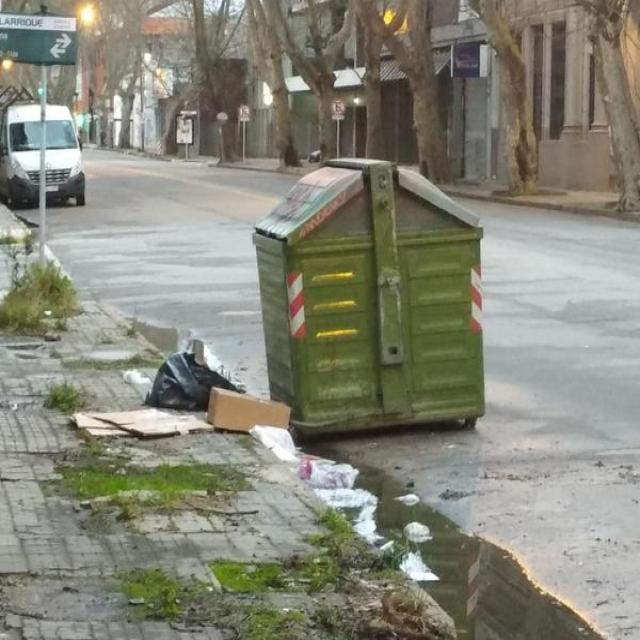garbage: (264, 422, 456, 588), (63, 336, 307, 466)
